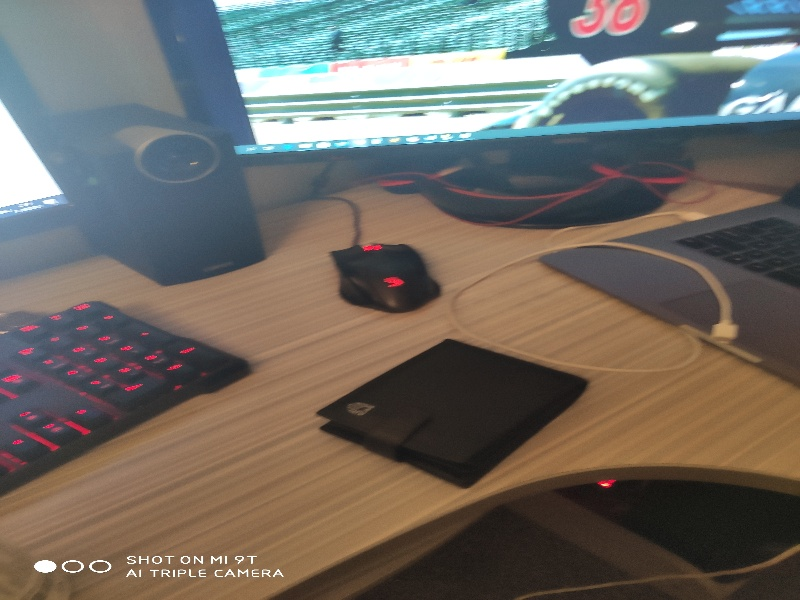wallet: (315, 328, 591, 501)
